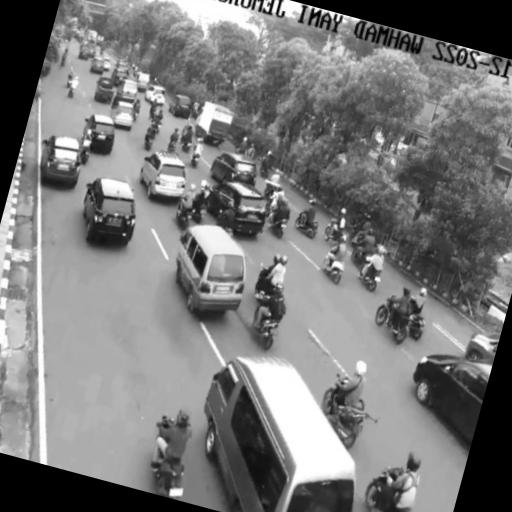car: (413, 355, 491, 442), (82, 178, 135, 245), (206, 182, 265, 235), (139, 151, 185, 198), (39, 136, 80, 187), (210, 152, 257, 186), (83, 114, 114, 154), (464, 333, 499, 364), (111, 78, 136, 107), (112, 101, 133, 130), (93, 76, 113, 103), (168, 94, 190, 117), (144, 85, 165, 105), (111, 66, 127, 86), (134, 72, 149, 92), (89, 56, 103, 74), (115, 59, 129, 72), (78, 46, 91, 59), (86, 43, 95, 58), (102, 56, 110, 71)
motorcycle: (329, 400, 376, 450), (374, 297, 408, 344), (364, 468, 401, 511), (153, 457, 183, 498), (252, 306, 278, 349), (254, 264, 274, 302), (322, 256, 344, 284), (294, 212, 317, 238), (359, 264, 380, 291), (175, 202, 193, 230), (407, 312, 424, 340), (216, 209, 233, 236), (323, 219, 340, 242), (79, 136, 91, 164), (350, 246, 364, 268), (270, 219, 286, 238), (191, 200, 203, 223), (144, 128, 155, 151), (190, 150, 200, 167), (181, 141, 190, 152), (166, 142, 175, 152), (66, 74, 72, 88), (67, 87, 74, 98), (132, 109, 138, 121), (59, 55, 65, 67)
truck: (195, 102, 232, 146)
